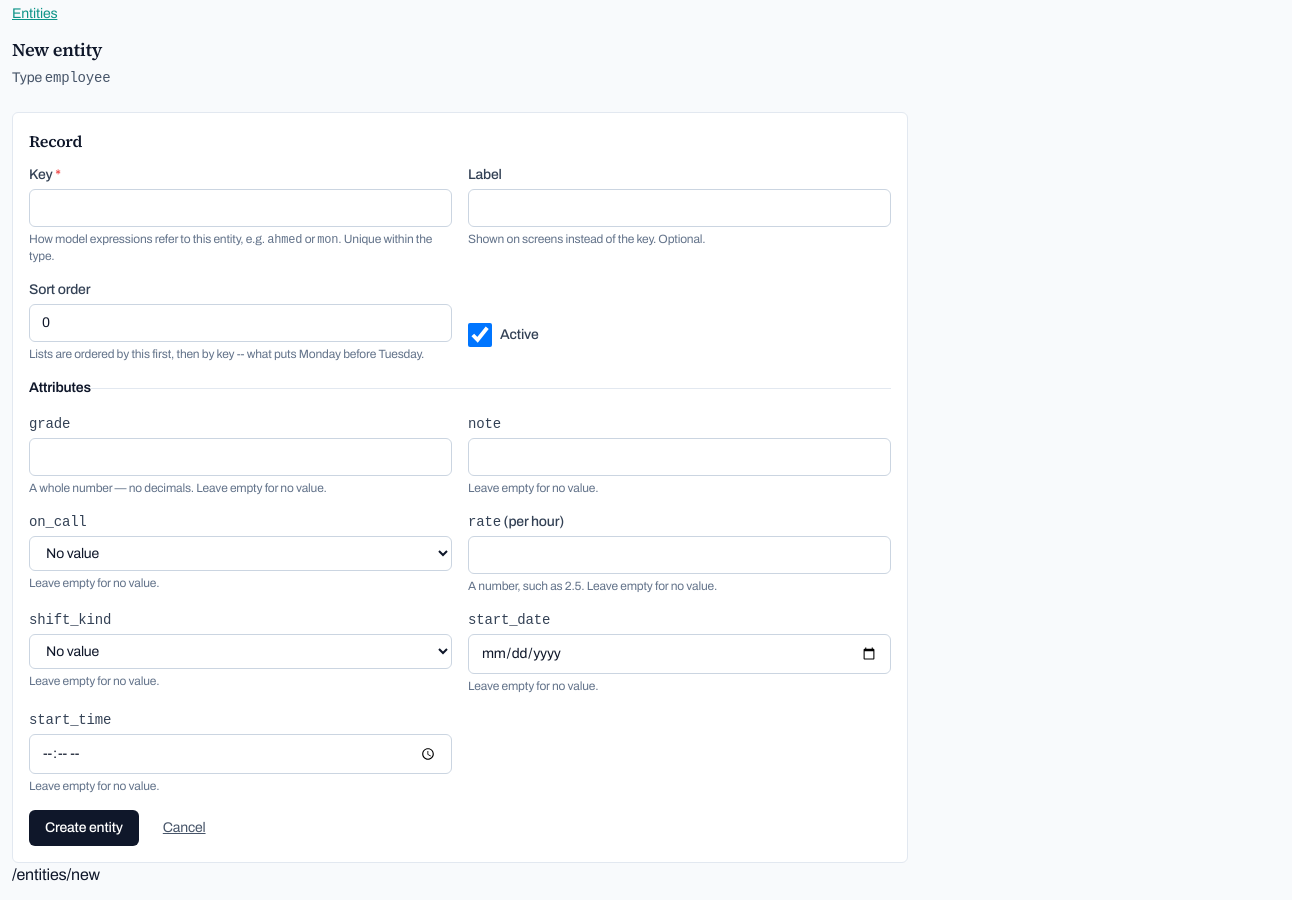
Test: EntityRecord: creating an entity › refuses a non-numeric entry in a number field client-side, sending nothing
The width and height of the screenshot is (1292, 900).
Expected: the field labelled "grade" is shown, left=29, top=438, right=452, bottom=476
Type "ahmed" into the field labelled "Key *" at [240, 208], box left=29, top=189, right=452, bottom=227
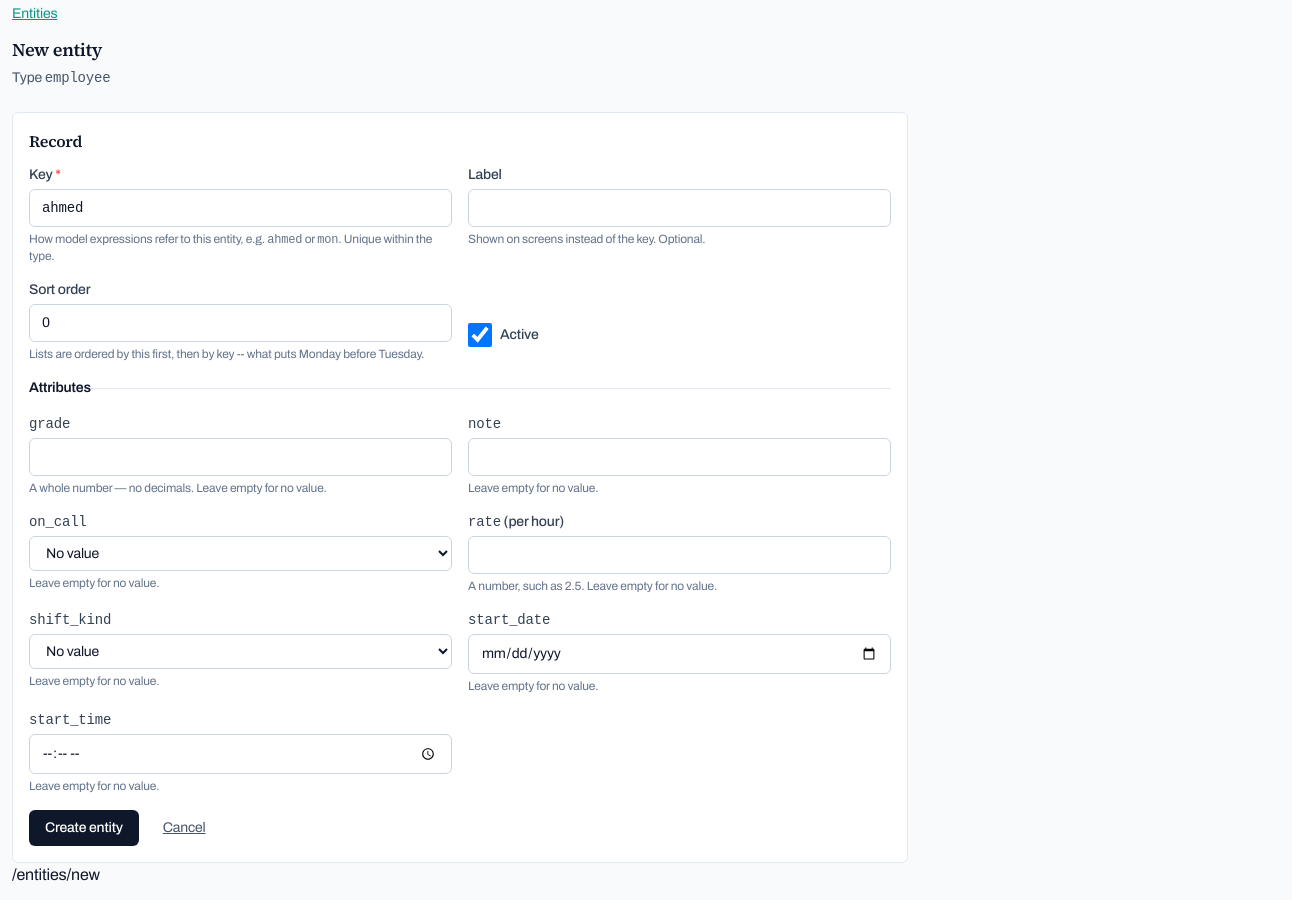
Type "banana" into the field labelled "rate (per hour)" at [680, 555], box left=468, top=536, right=891, bottom=574
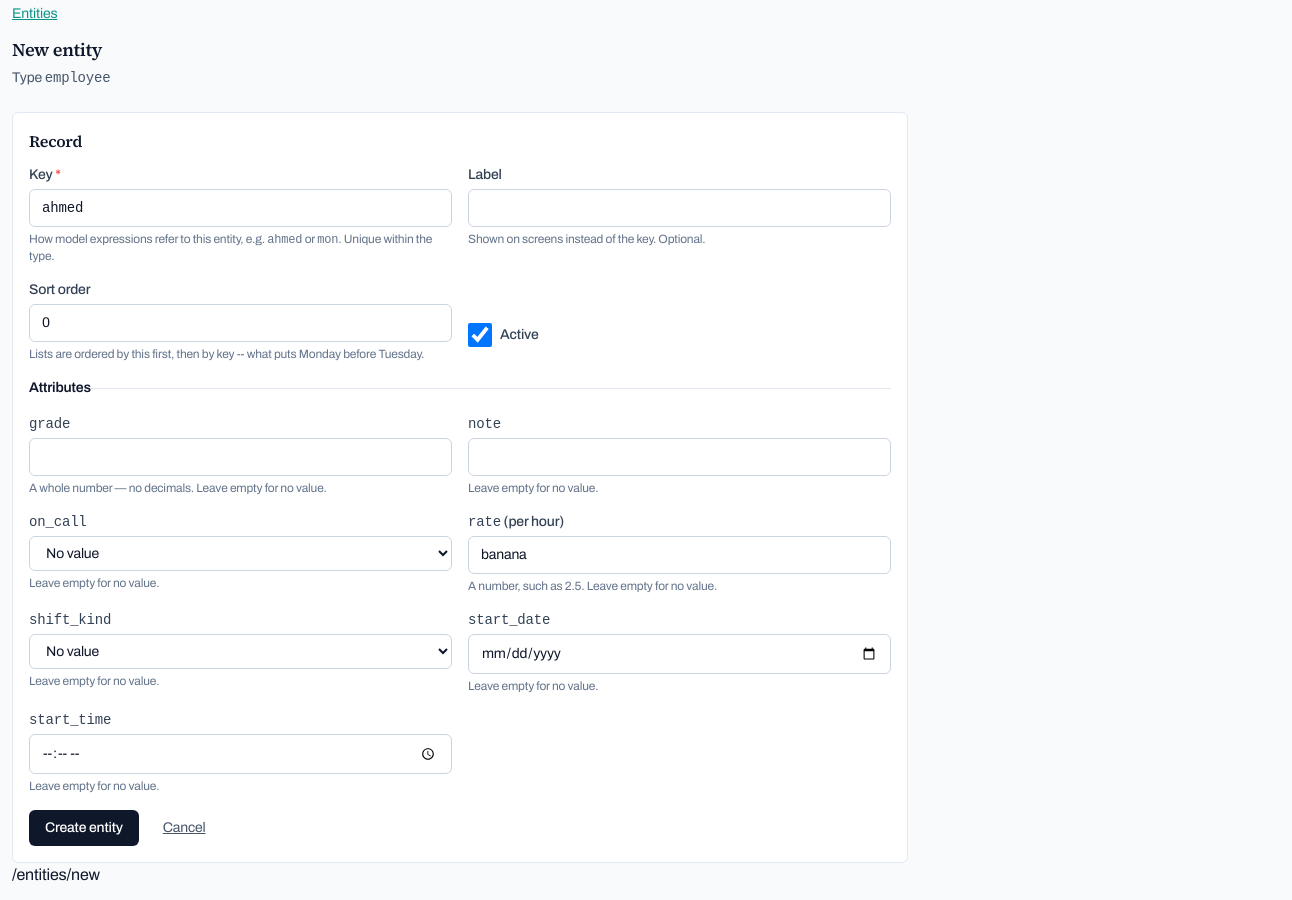
Click the button "Create entity" at [84, 828], box left=29, top=810, right=139, bottom=846
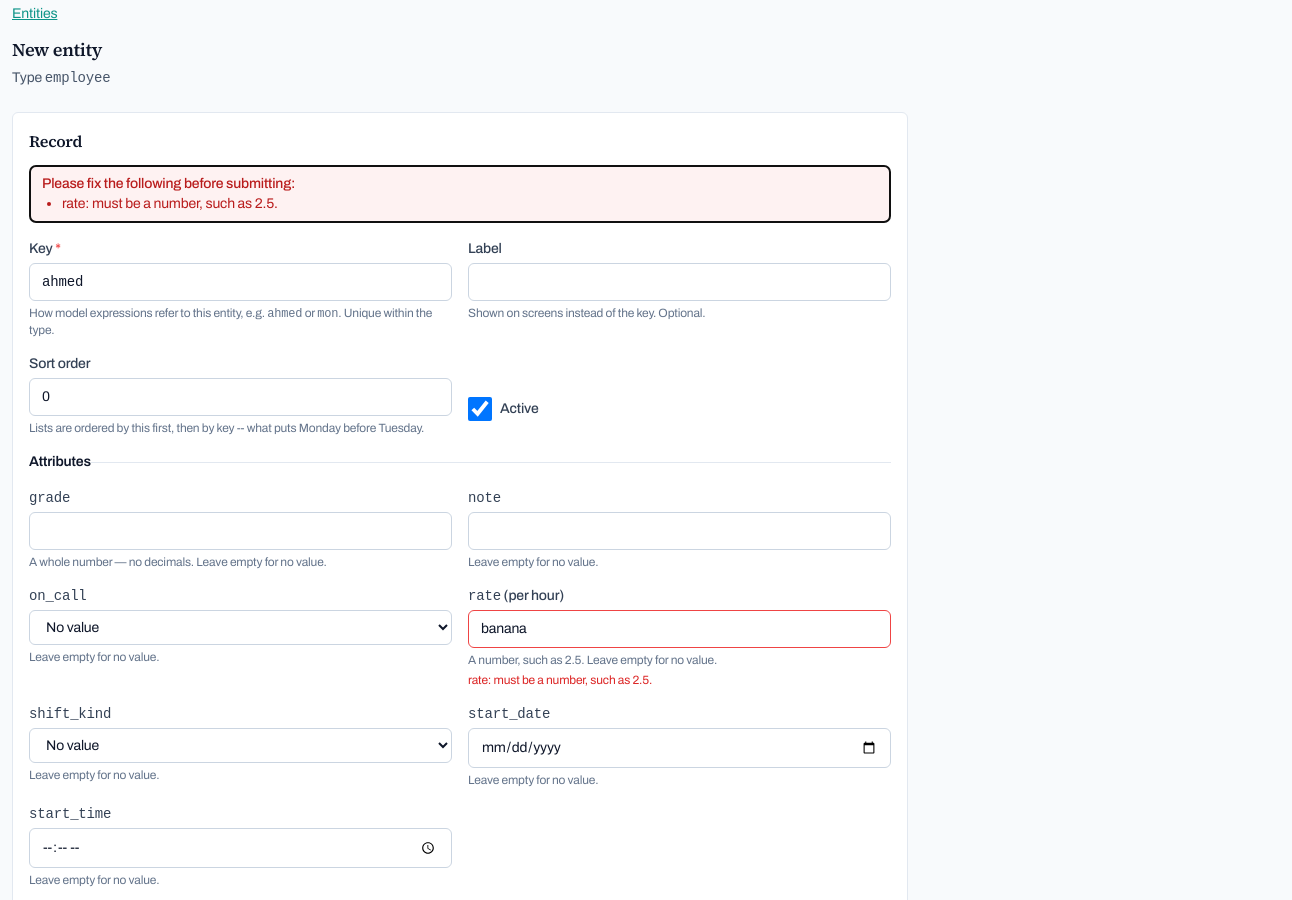
Expected: the message with test id "form-errors" is shown, left=29, top=165, right=891, bottom=223
Expected: the message with test id "form-errors" shows "rate: must be a number", left=62, top=196, right=278, bottom=211
